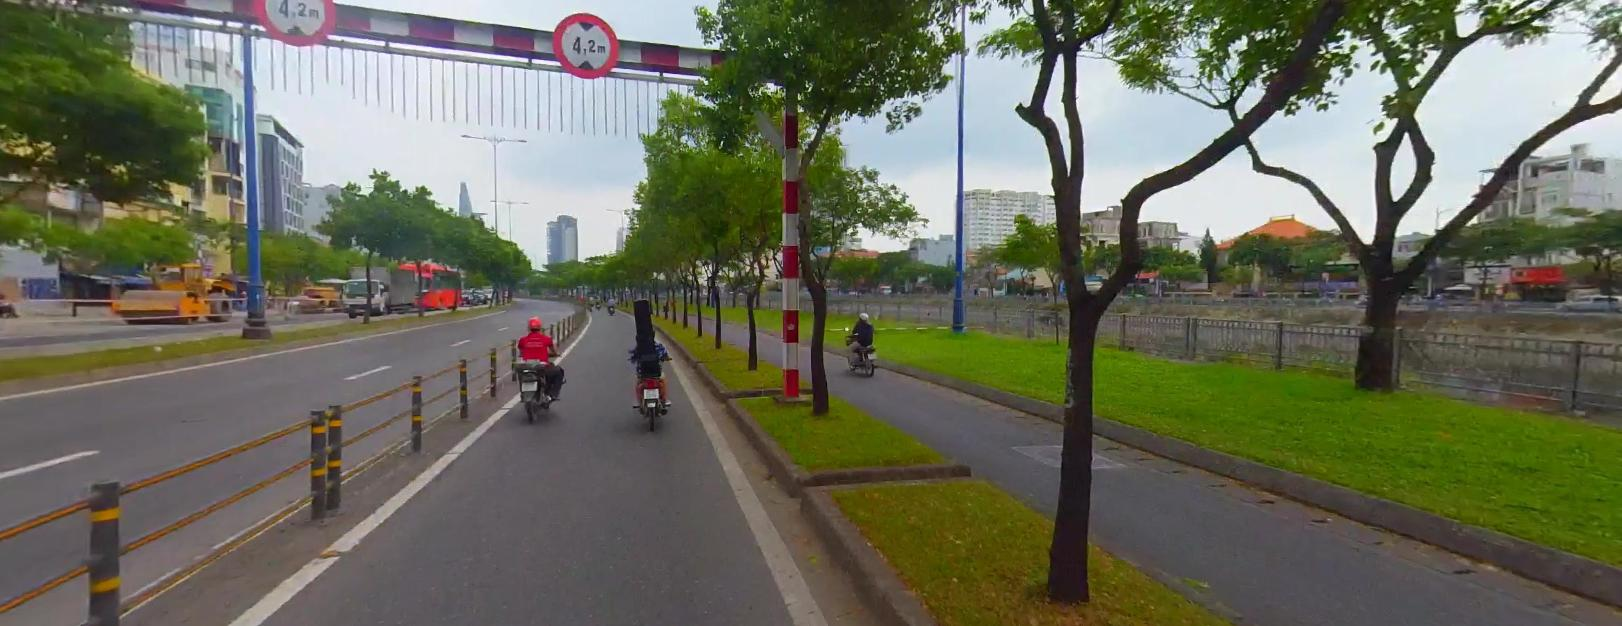Cam con lai: (551, 9, 620, 77), (253, 0, 338, 50)
